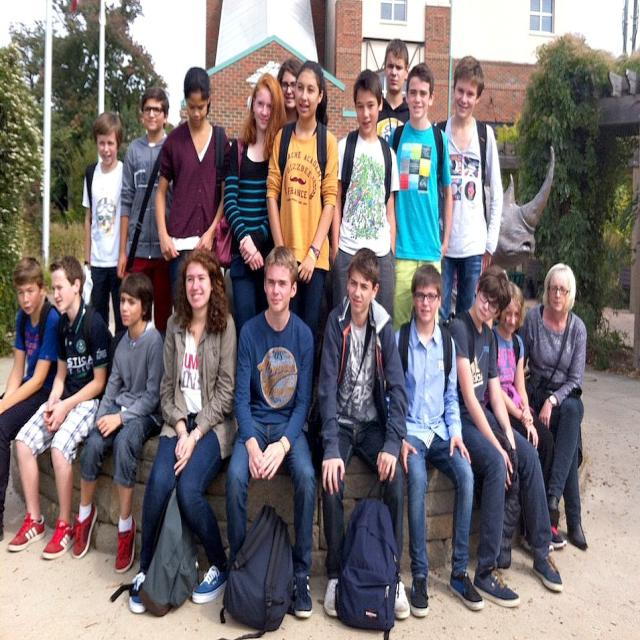body: (127, 241, 240, 621), (442, 261, 564, 611), (313, 243, 415, 626), (220, 238, 320, 623), (5, 253, 116, 563), (394, 263, 485, 619), (70, 271, 165, 576), (514, 262, 590, 553), (264, 58, 338, 339), (433, 54, 505, 325), (385, 61, 454, 337), (154, 64, 230, 314), (223, 70, 288, 357), (0, 253, 63, 548), (490, 280, 557, 555), (330, 68, 400, 328), (116, 82, 174, 344), (80, 108, 126, 338), (374, 36, 412, 144), (276, 57, 304, 125)
